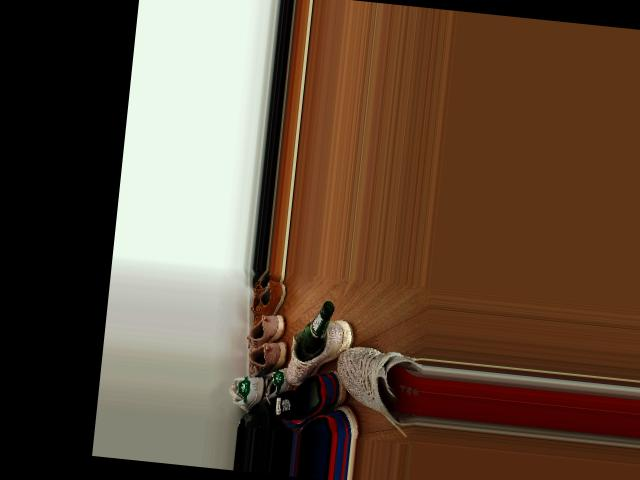beer: (295, 298, 335, 364)
